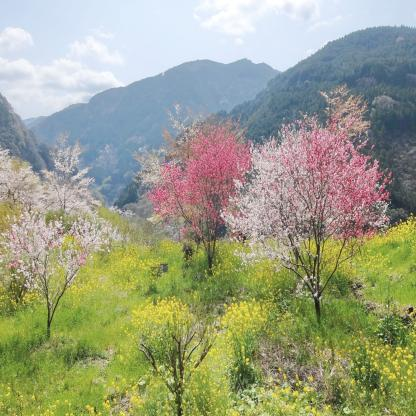Momo: (231, 82, 394, 272), (134, 100, 250, 242), (3, 212, 116, 288), (29, 130, 108, 215), (0, 145, 38, 203)
